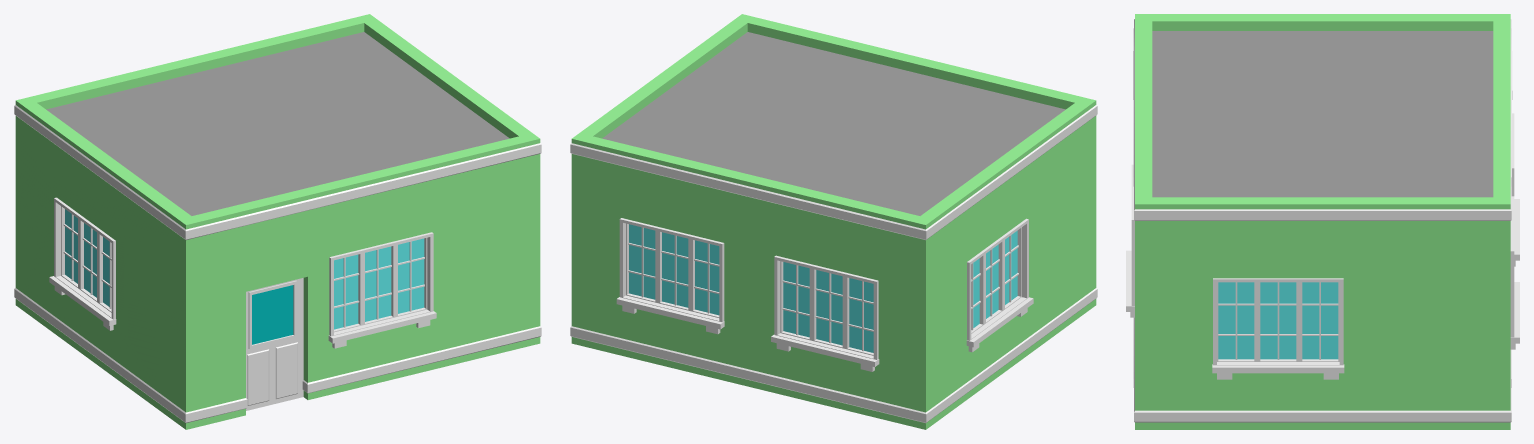
The model's file is SM_House_10_03.FBX.
3 views of the same model, side by side, from view 1: azimuth 30°, elevation 25°; view 2: azimuth 150°, elevation 25°; view 3: azimuth 270°, elevation 25° (orthographic). The views are drawn at different scales.
Parts seen in each view (by area): view 1: SM_House_10_03; view 2: SM_House_10_03; view 3: SM_House_10_03.
Boxes of the visible parts, left/top/right/bottom form: SM_House_10_03: left=14, top=14, right=541, bottom=429; SM_House_10_03: left=570, top=14, right=1097, bottom=429; SM_House_10_03: left=1126, top=14, right=1519, bottom=429.
Size of the model in its own units: 6.23 by 3.32 by 5.25.
1 material, 1 textured.
